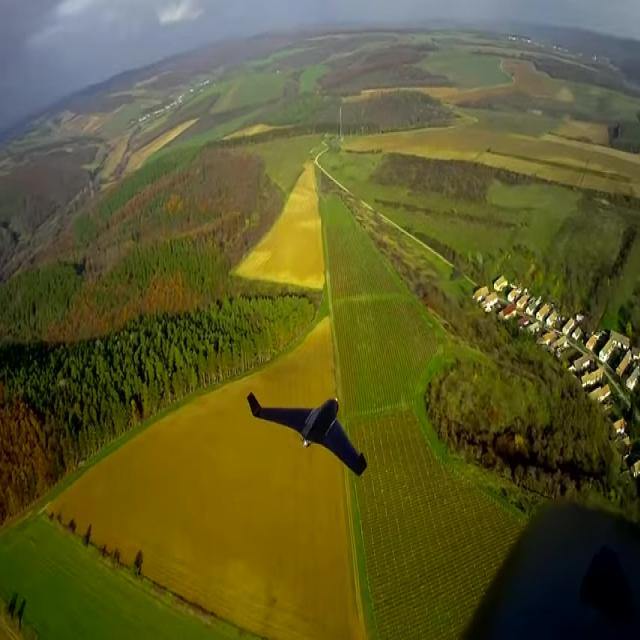iha: (279, 423, 335, 447)
